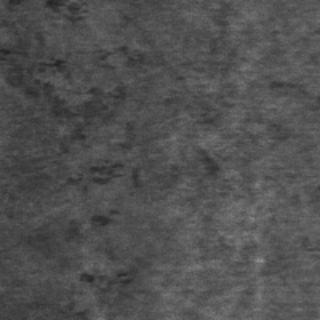rolled pit: (15, 39, 125, 171), (66, 157, 140, 291), (39, 1, 91, 26)
